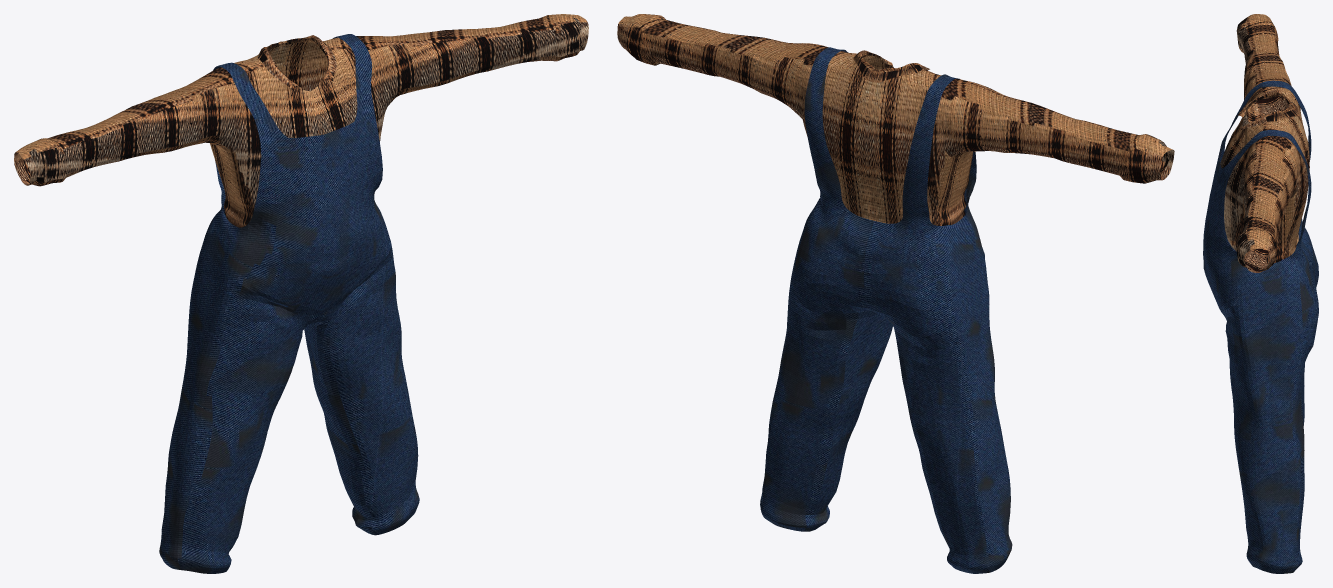
File: Shirt03U.fbx
The picture shows the model from 3 angles, left to right: view 1: azimuth 30°, elevation 25°; view 2: azimuth 150°, elevation 25°; view 3: azimuth 270°, elevation 25°; orthographic projection. The views are drawn at different scales.
Visible parts, largest first — view 1: Touser, Shirt; view 2: Touser, Shirt; view 3: Touser, Shirt.
Boxes of the visible parts, <box> form: Touser: <box>159,34,419,573</box>; Shirt: <box>14,14,588,227</box>; Touser: <box>760,47,1012,573</box>; Shirt: <box>617,14,1174,225</box>; Touser: <box>1203,80,1318,573</box>; Shirt: <box>1220,14,1309,272</box>.
Size of the model in its own units: 191 by 163 by 39.8.
Materials: 2 (2 with a texture image).
